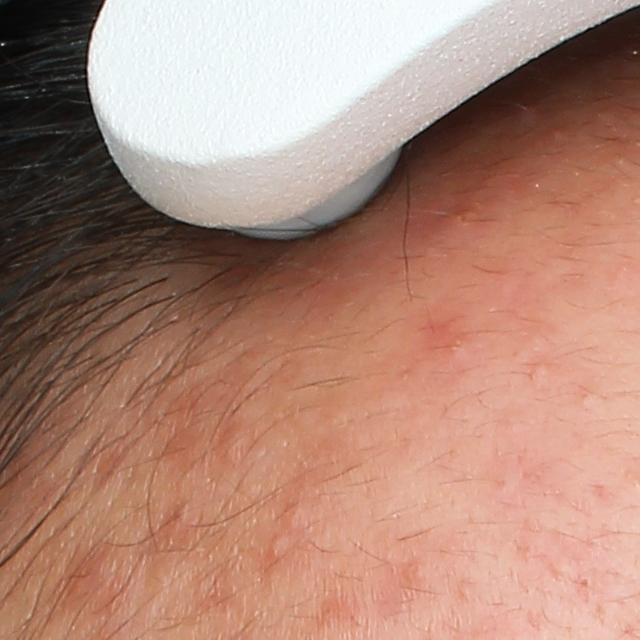comedo: (530, 361, 557, 383), (578, 575, 592, 589)
papule: (65, 544, 129, 611), (219, 425, 253, 464)
